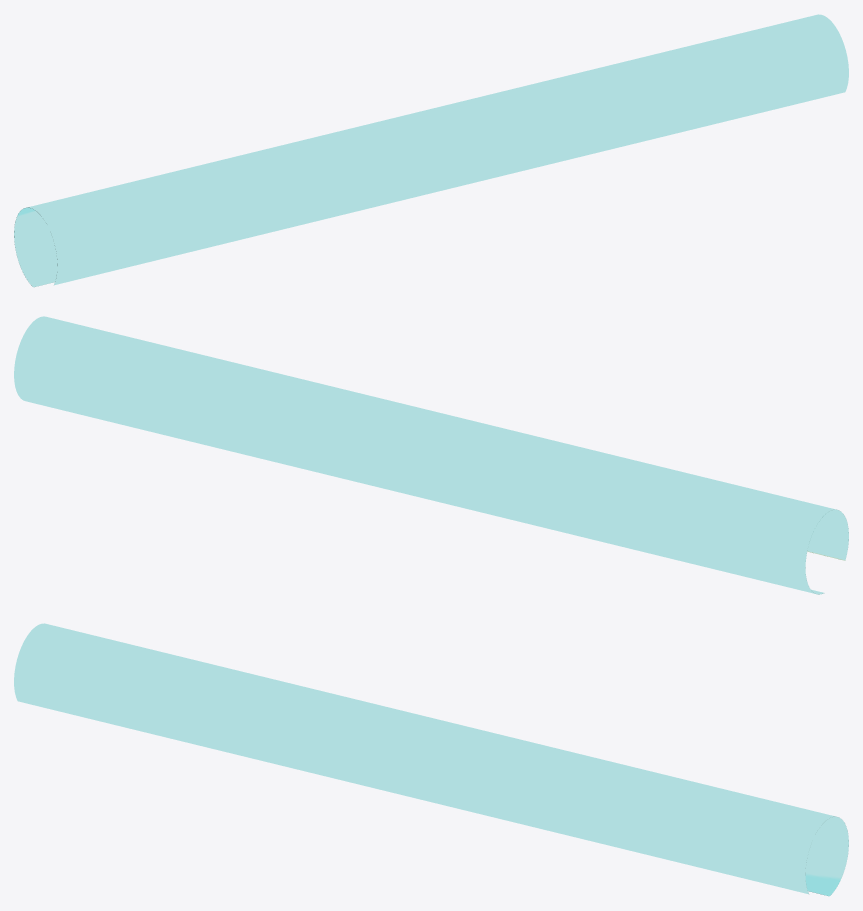
Rendered from Level 104.fbx.
3 views of the same model, one above another, from view 1: azimuth 30°, elevation 25°; view 2: azimuth 150°, elevation 25°; view 3: azimuth 330°, elevation 25° (orthographic).
Visible parts, largest first — view 1: light; view 2: light; view 3: light.
Part boxes in pixels (bbox=[...]): light: bbox=[14, 14, 848, 287]; light: bbox=[14, 316, 848, 594]; light: bbox=[14, 623, 848, 896].
Size of what is drawn, in the model's own units: 1126 by 107 by 107.
